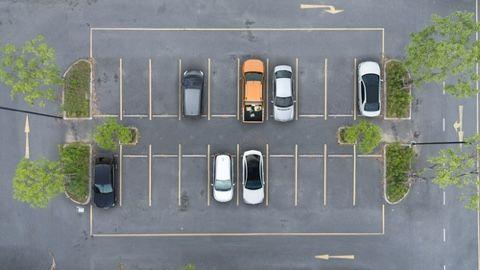car: (177, 60, 214, 123), (235, 147, 271, 210), (205, 149, 241, 209), (267, 58, 300, 123), (352, 56, 384, 120), (92, 144, 123, 210), (237, 58, 269, 120)
